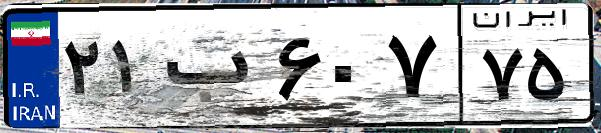0: (330, 28, 385, 110)
1: (110, 28, 158, 98)
2: (57, 26, 110, 100)
5: (525, 38, 570, 115)
6: (270, 28, 330, 110)
7: (385, 28, 445, 110), (475, 38, 525, 113)
ب: (158, 20, 270, 120)
